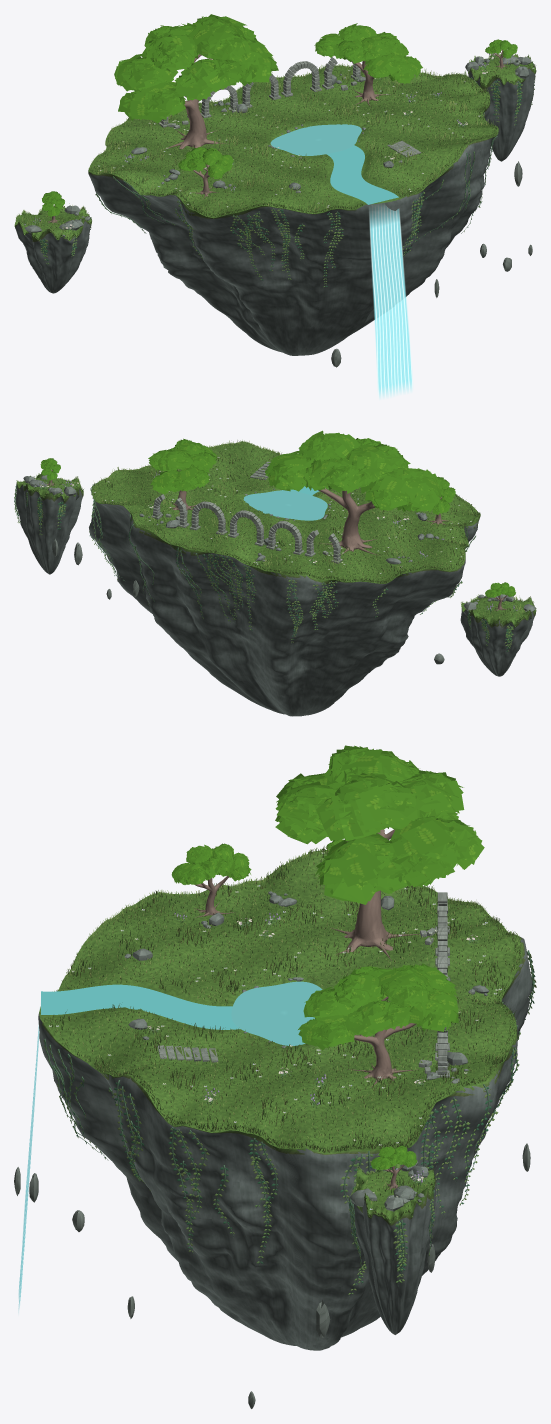
File: thien-vien.glb
3 renders of one model, top to bottom at view 1: azimuth 30°, elevation 25°; view 2: azimuth 150°, elevation 25°; view 3: azimuth 270°, elevation 25°, orthographic. The views are drawn at different scales.
Parts seen in each view (by area): view 1: Garden crown Cliff, Garden crown Ground, Garden crown tree canopy, Garden crown low meadow blades, Garden crown fall, Garden crown high meadow blades, Garden crown tree canopy.001, West isle Cliff, East isle Cliff, Garden crown botanical vine leaves, Garden crown stillwater, Garden crown winding river (+7 smaller); view 2: Garden crown Cliff, Garden crown Ground, Garden crown tree canopy, Garden crown low meadow blades, East isle Cliff, Garden crown tree canopy.001, West isle Cliff, Garden crown botanical vine leaves, Garden crown high meadow blades, Garden crown stillwater, Garden crown trailing vine stems, Garden crown tree wood (+6 smaller); view 3: Garden crown Ground, Garden crown Cliff, Garden crown tree canopy, Garden crown low meadow blades, Garden crown tree canopy.001, Garden crown high meadow blades, East isle Cliff, Garden crown botanical vine leaves, Garden crown winding river, Garden crown stillwater, Garden crown trailing vine stems, Garden crown rim meadow blades (+7 smaller).
Part boxes in pixels (box(x1,y1,x2,y2)): Garden crown Cliff: box(88, 94, 494, 355); Garden crown Ground: box(88, 65, 498, 218); Garden crown tree canopy: box(114, 14, 278, 122); Garden crown low meadow blades: box(90, 65, 496, 216); Garden crown fall: box(369, 205, 412, 398); Garden crown high meadow blades: box(97, 64, 493, 214); Garden crown tree canopy.001: box(314, 23, 422, 83); West isle Cliff: box(15, 221, 90, 293); East isle Cliff: box(468, 68, 535, 161); Garden crown botanical vine leaves: box(95, 78, 495, 287); Garden crown stillwater: box(270, 124, 361, 155); Garden crown winding river: box(326, 145, 398, 204); Garden crown Cliff: box(89, 501, 478, 716); Garden crown Ground: box(91, 441, 480, 583); Garden crown tree canopy: box(265, 430, 441, 512); Garden crown low meadow blades: box(92, 441, 479, 582); East isle Cliff: box(16, 485, 82, 574); Garden crown tree canopy.001: box(148, 438, 217, 494); West isle Cliff: box(460, 609, 535, 676); Garden crown botanical vine leaves: box(89, 485, 474, 642); Garden crown high meadow blades: box(92, 440, 477, 580); Garden crown stillwater: box(243, 490, 327, 520); Garden crown trailing vine stems: box(90, 483, 475, 643); Garden crown tree wood: box(318, 488, 374, 551); Garden crown Ground: box(39, 850, 521, 1153); Garden crown Cliff: box(38, 937, 532, 1350); Garden crown tree canopy: box(275, 745, 484, 904); Garden crown low meadow blades: box(43, 850, 521, 1152); Garden crown tree canopy.001: box(298, 963, 458, 1050); Garden crown high meadow blades: box(44, 846, 516, 1151); East isle Cliff: box(351, 1183, 435, 1334); Garden crown botanical vine leaves: box(43, 953, 536, 1294); Garden crown winding river: box(41, 984, 239, 1029); Garden crown stillwater: box(231, 981, 322, 1045); Garden crown trailing vine stems: box(44, 860, 534, 1296); Garden crown rim meadow blades: box(42, 847, 520, 1153).
Size of the model in its own units: 78.33 by 46.08 by 42.92.
10 materials, 6 textured.
